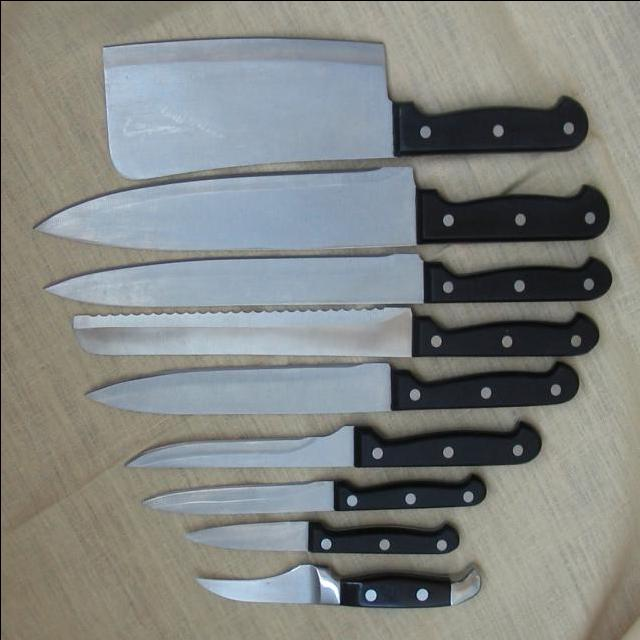cleaver: (81, 28, 596, 161)
knife: (33, 174, 610, 244), (68, 357, 584, 416), (42, 254, 615, 303), (69, 307, 601, 357), (114, 428, 568, 469), (180, 560, 492, 617), (182, 515, 465, 562), (129, 478, 491, 513)
